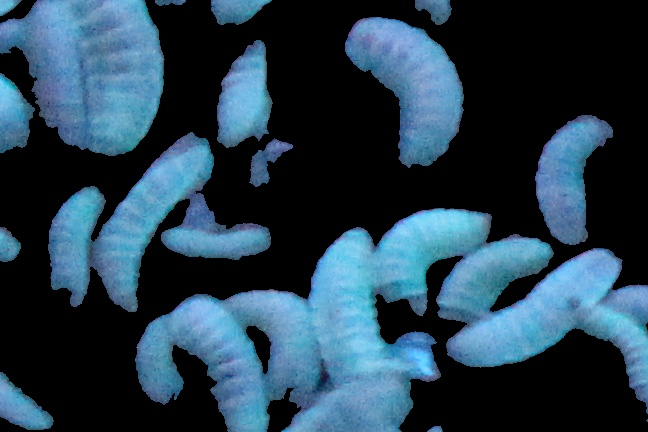larvae: (446, 246, 622, 366), (94, 142, 215, 313), (346, 12, 464, 169), (69, 1, 165, 158), (306, 223, 392, 377), (173, 297, 270, 432), (376, 211, 495, 310), (532, 113, 614, 245), (227, 285, 322, 396), (25, 1, 94, 153), (436, 231, 551, 320), (572, 301, 648, 404), (44, 186, 104, 310), (218, 42, 273, 149), (133, 318, 189, 404), (160, 224, 269, 260)
